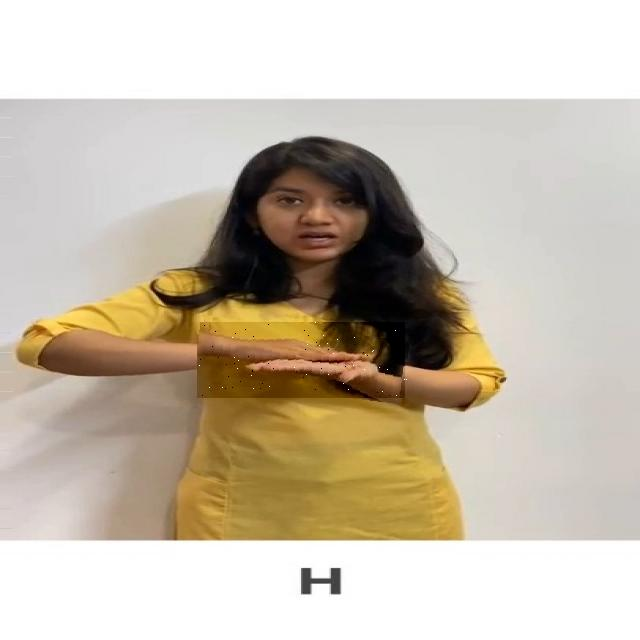H: (198, 322, 408, 398)
